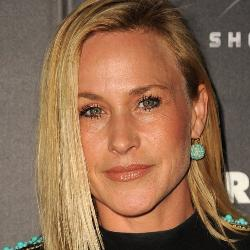face: (17, 4, 241, 240)
